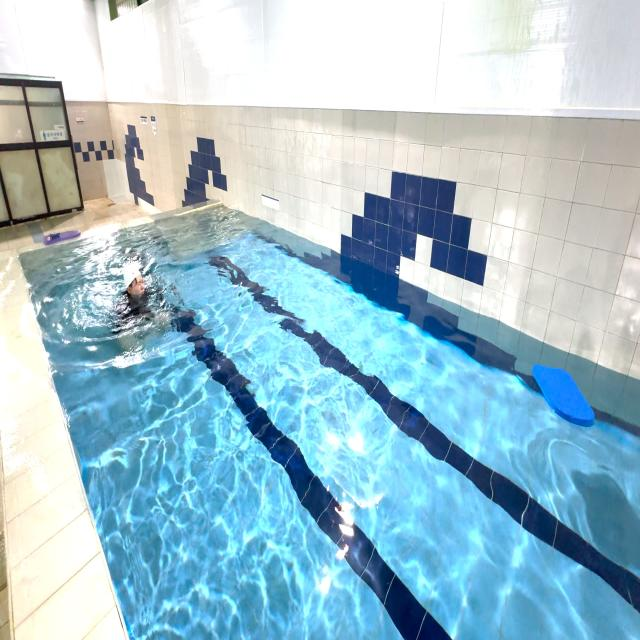Drowning: (101, 249, 187, 357)
